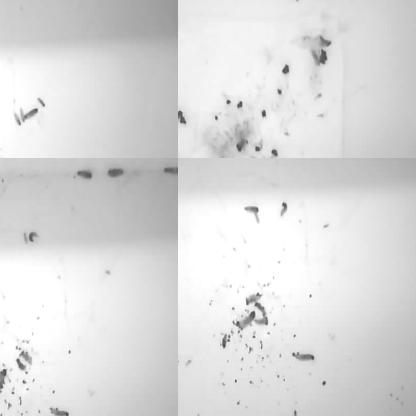PtecticusTenebrifer: (234, 310, 255, 328), (295, 352, 317, 363), (49, 404, 69, 416), (76, 168, 93, 182), (22, 108, 40, 121), (0, 112, 9, 134), (163, 165, 178, 177), (107, 168, 124, 178), (28, 230, 40, 244), (244, 203, 260, 213), (0, 106, 9, 123), (0, 370, 6, 395), (280, 202, 288, 219), (0, 189, 7, 208), (37, 96, 46, 110), (0, 118, 9, 132), (333, 158, 351, 165), (0, 356, 7, 371), (291, 0, 300, 11), (178, 120, 185, 134), (315, 158, 331, 164), (7, 0, 24, 5), (0, 237, 8, 247), (0, 6, 3, 28), (379, 158, 389, 164), (0, 0, 8, 5), (0, 151, 5, 158), (0, 0, 5, 7), (0, 0, 6, 3)
